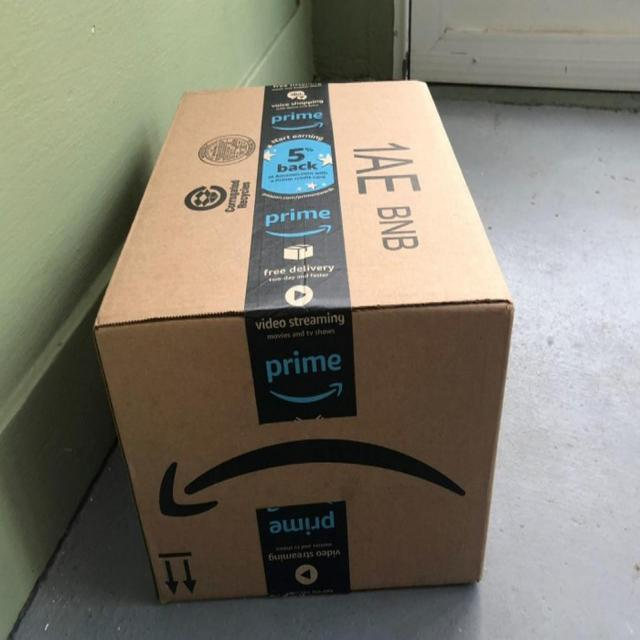box: (90, 76, 521, 615)
